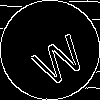W: (25, 25, 90, 89)
